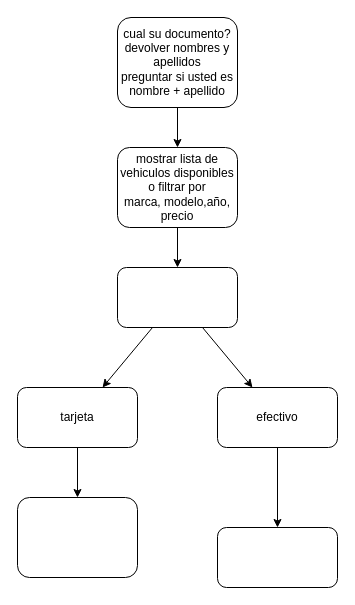
Image size: 355x605. Some labels were removed from this diagram. Here are the shapes that lost their labels. From the top down, the centre of each, then its label:
At [177,297]: "elegir metodo de pago".
At [77,537]: "ingresar datos de tarjeta: credito o debito, fecha expiracion. etc".
